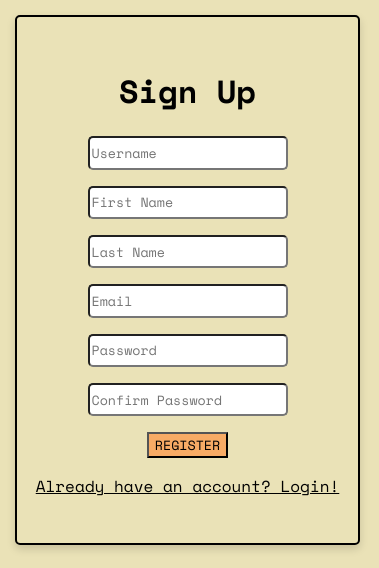
Scenario: Registration.vue › should enable the submit button if passwords match
In the password field with placeholder "Password": x=188, y=350 [88,334,288,367], type "password123"
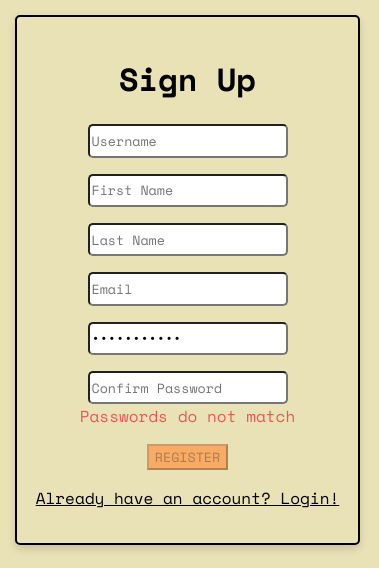
In the password field with id "confirmPassword": x=188, y=388 [88,371,288,404], type "password123"
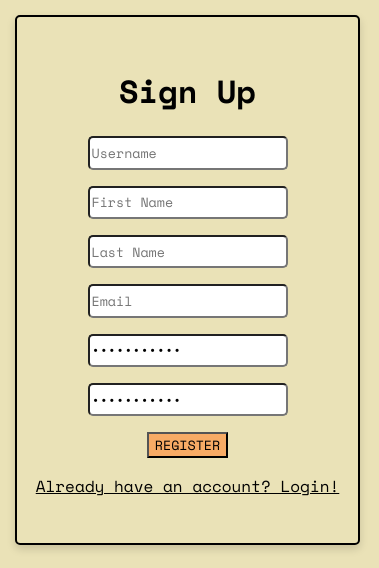
Result: the button with id "submitButton" is enabled at [147,432,228,458]
